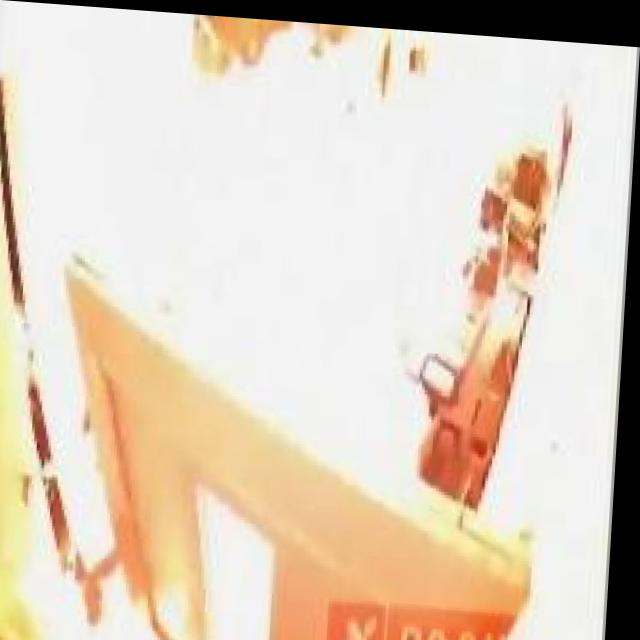fire: (0, 3, 588, 511)
